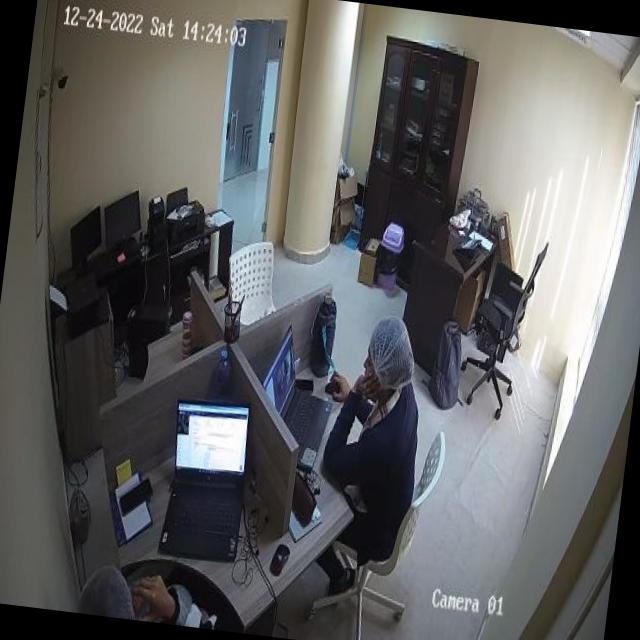hairnet: (369, 315, 418, 388)
